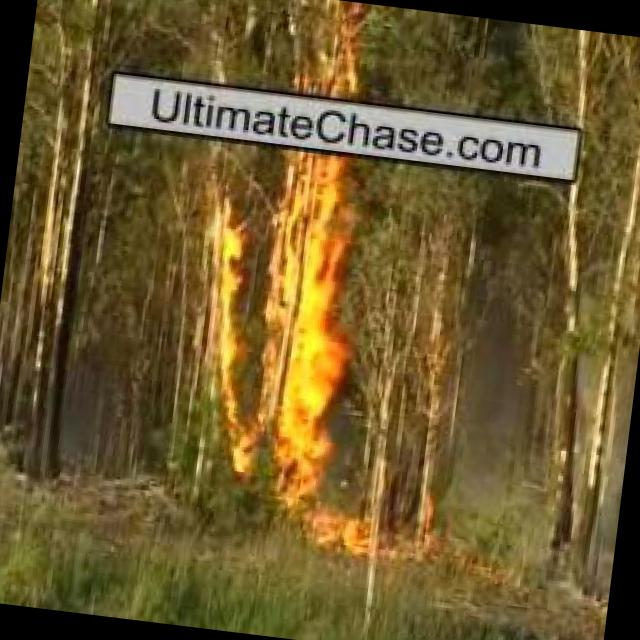Fire: (164, 134, 381, 497), (302, 7, 370, 109), (309, 508, 372, 560)
